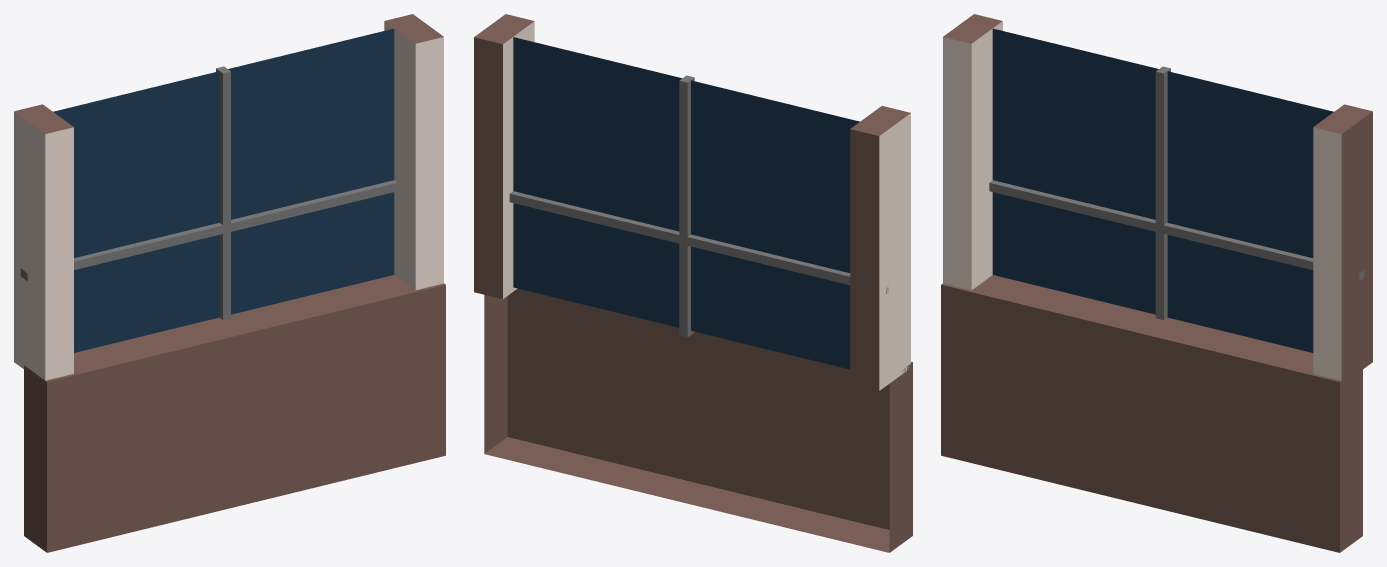
The picture shows the model from 3 angles, left to right: view 1: azimuth 30°, elevation 25°; view 2: azimuth 150°, elevation 25°; view 3: azimuth 330°, elevation 25°; orthographic projection.
Parts seen in each view (by area): view 1: base-w1; view 2: base-w1; view 3: base-w1.
Boxes of the visible parts, bbox=[...] form: base-w1: bbox=[14, 14, 445, 552]; base-w1: bbox=[474, 14, 912, 552]; base-w1: bbox=[941, 14, 1372, 552].
Bounding box in the file's own units: 3 × 3 × 0.431.
